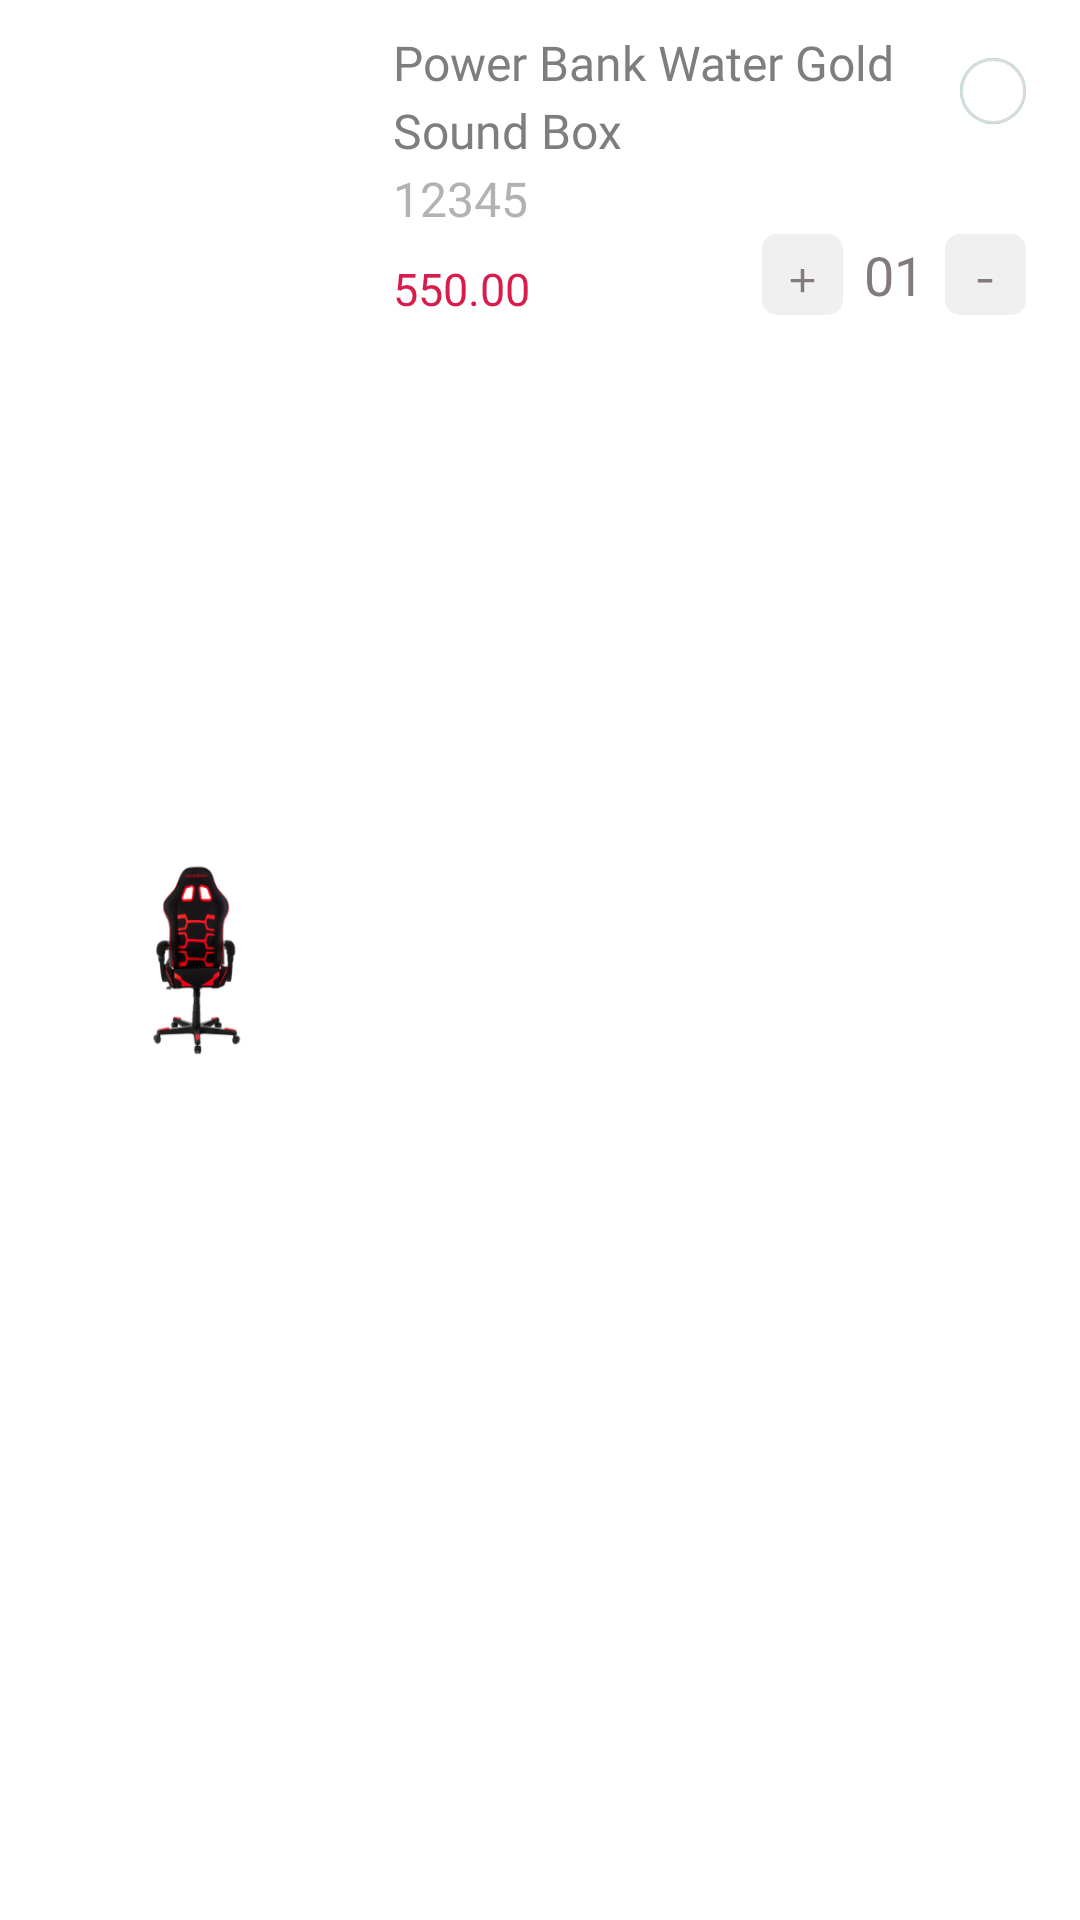

Point at icon controls on the screen. Image size 1080 × 1920, points as (x,y).
plus: (802,274)
